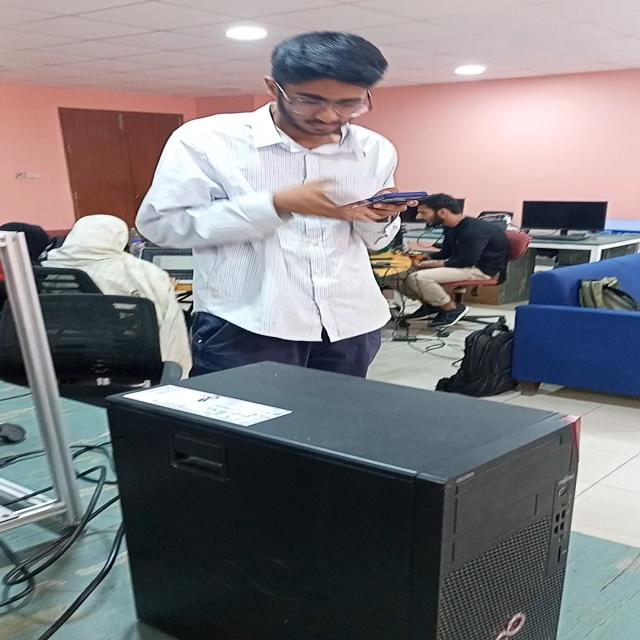dress: (139, 105, 418, 380)
glasses: (265, 89, 387, 118)
